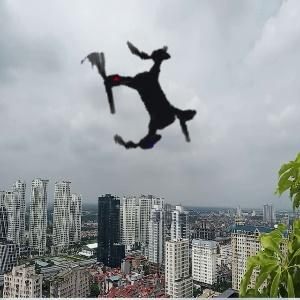drone: (46, 3, 241, 198)
